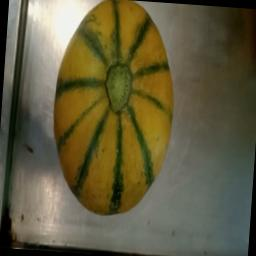Melon Ripe: (36, 0, 188, 231)
